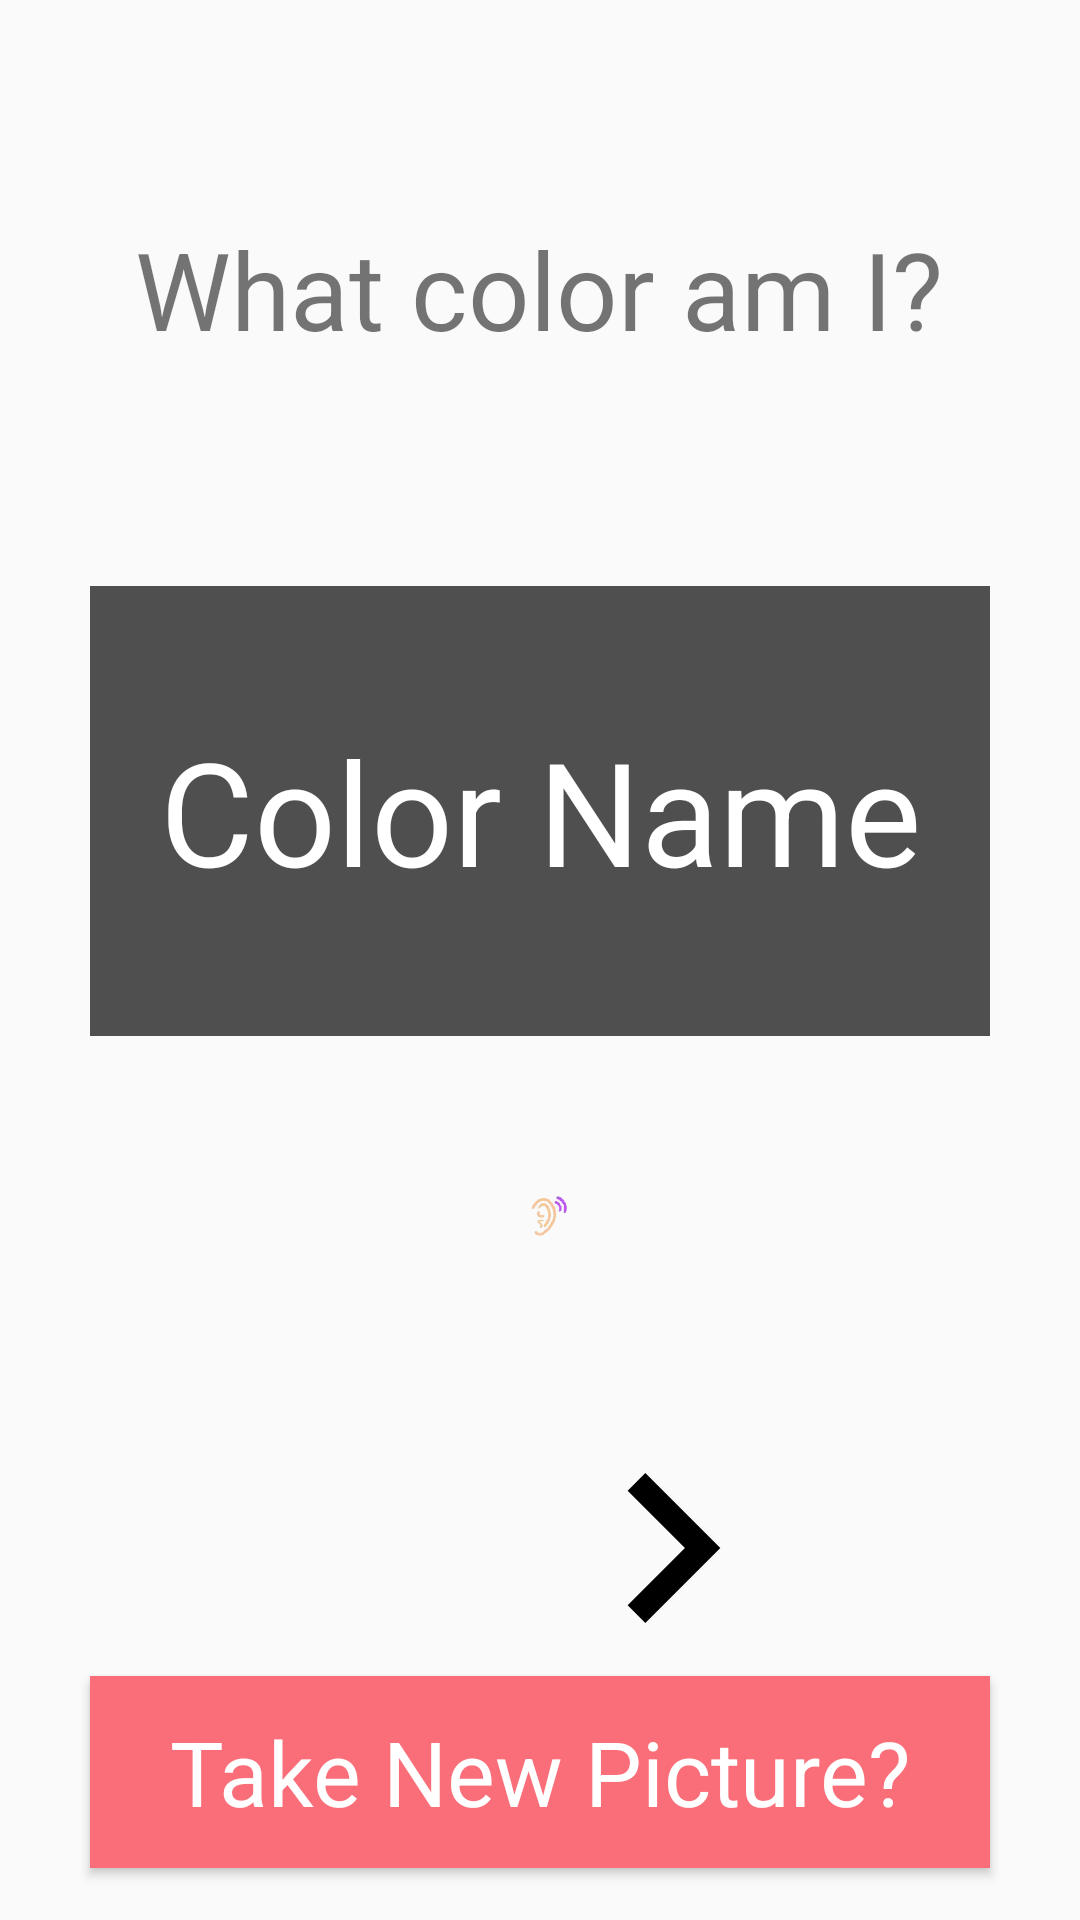

Icon bounding boxes for this 1080 x 1920 phone screenshot, format bbox(x1, y1, x2, y2):
listen: bbox(532, 1196, 567, 1236)
right chevron: bbox(627, 1473, 720, 1623)
